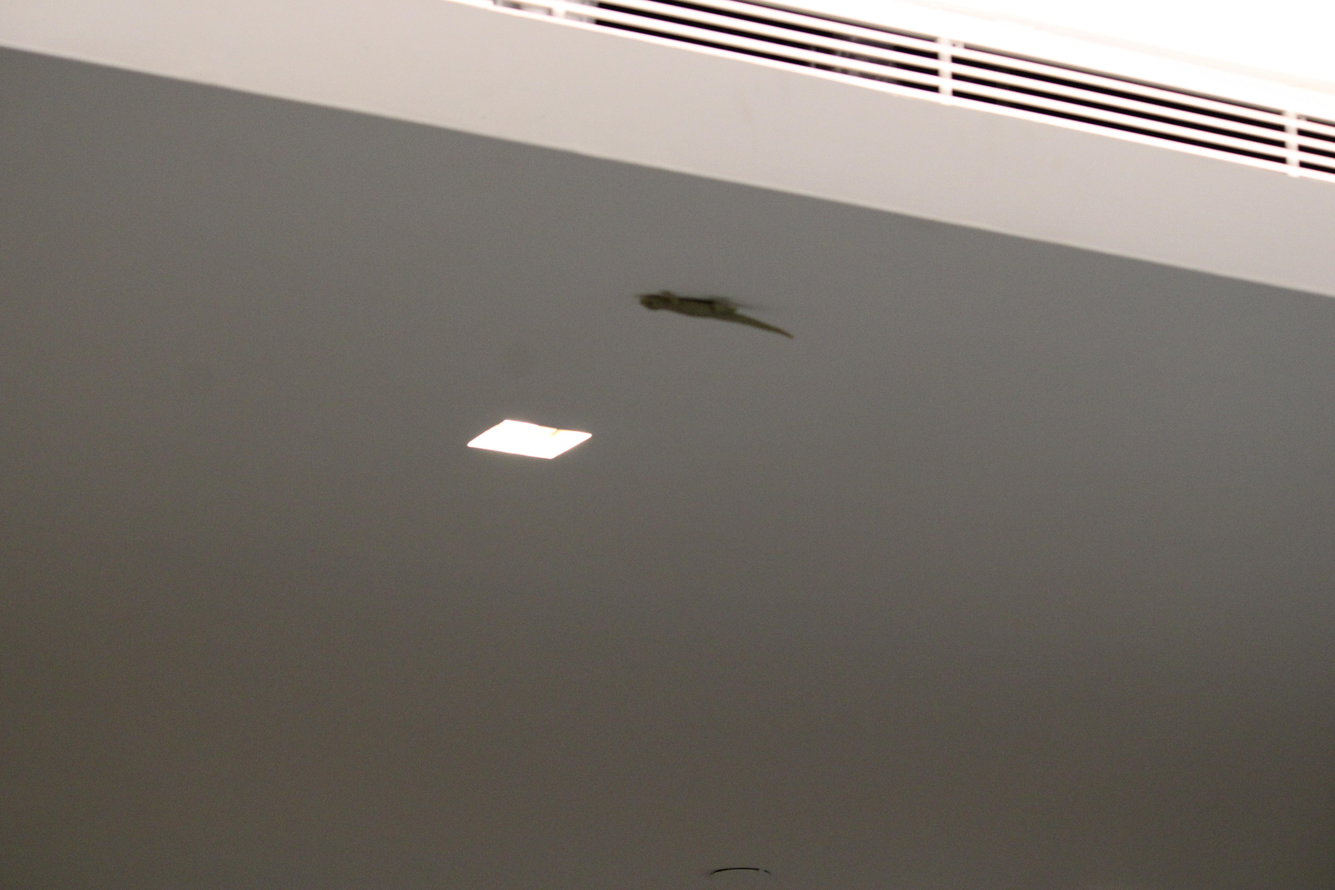lizard: (635, 276, 799, 342)
